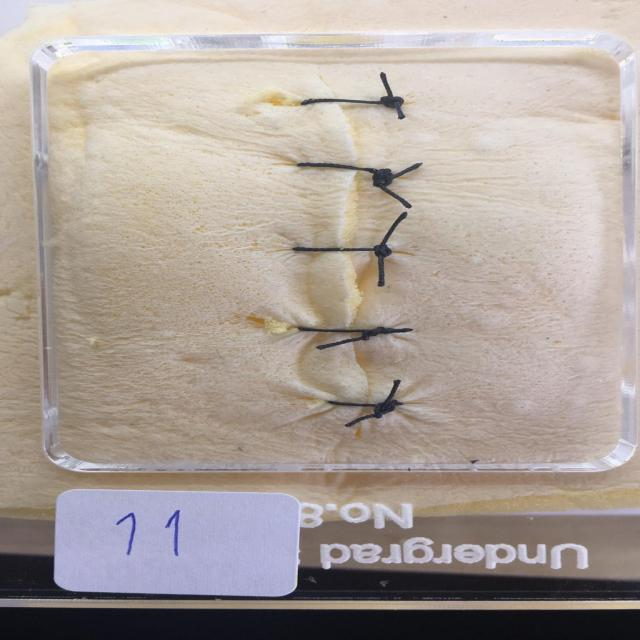knot: (375, 400, 402, 419), (373, 169, 394, 187), (362, 328, 392, 340), (382, 96, 404, 108), (375, 245, 392, 257)
leftover: (313, 329, 391, 350), (375, 210, 408, 252), (376, 172, 413, 209), (342, 402, 393, 427), (377, 70, 397, 105), (383, 161, 423, 178), (381, 378, 401, 406), (375, 248, 384, 288), (391, 101, 404, 121), (374, 327, 415, 333)
stitch: (293, 163, 396, 179), (297, 98, 405, 107), (293, 326, 395, 333), (324, 400, 403, 407), (289, 247, 394, 252)
wound: (315, 73, 374, 438)
